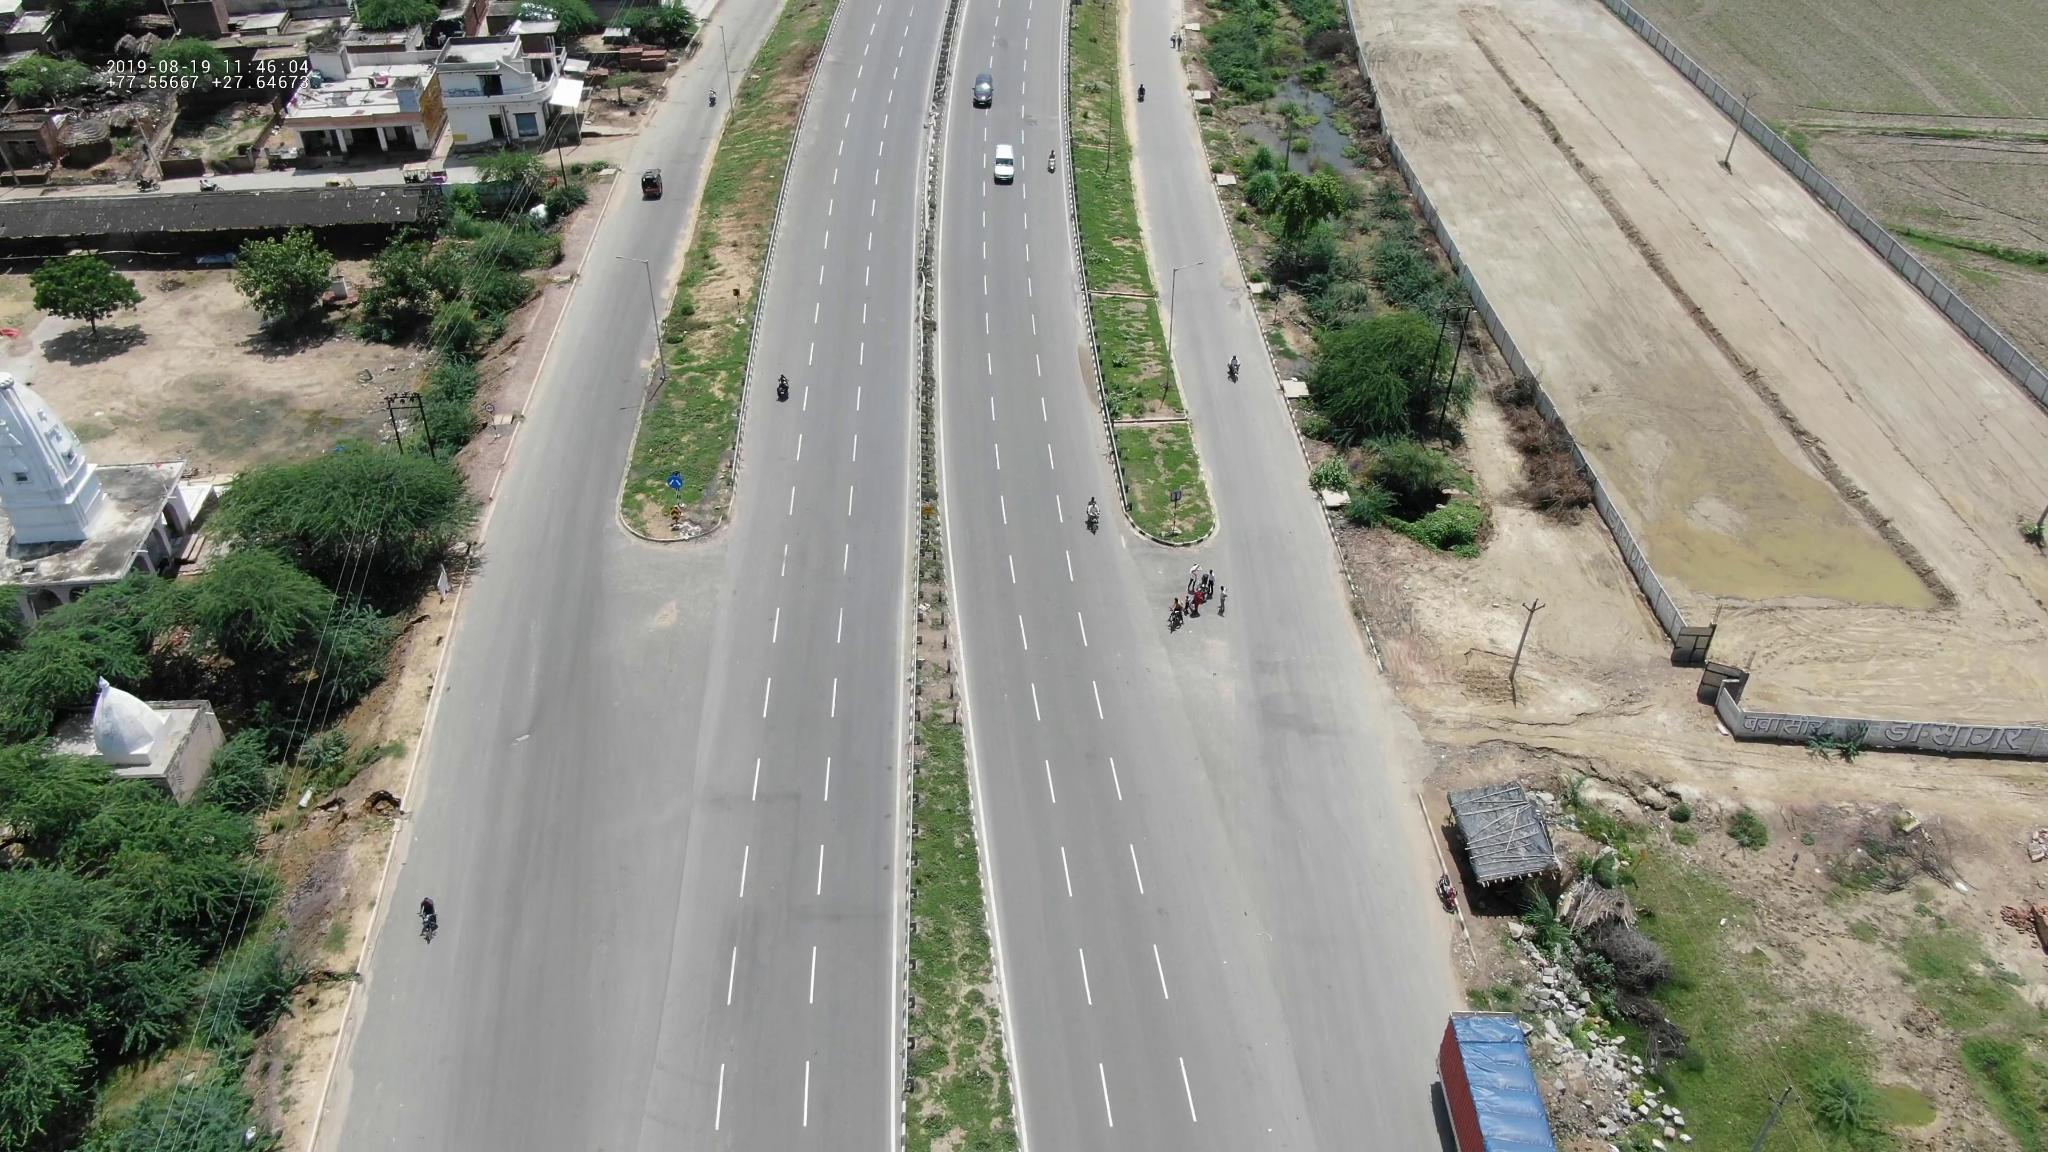Potholes: (473, 723, 551, 755)
